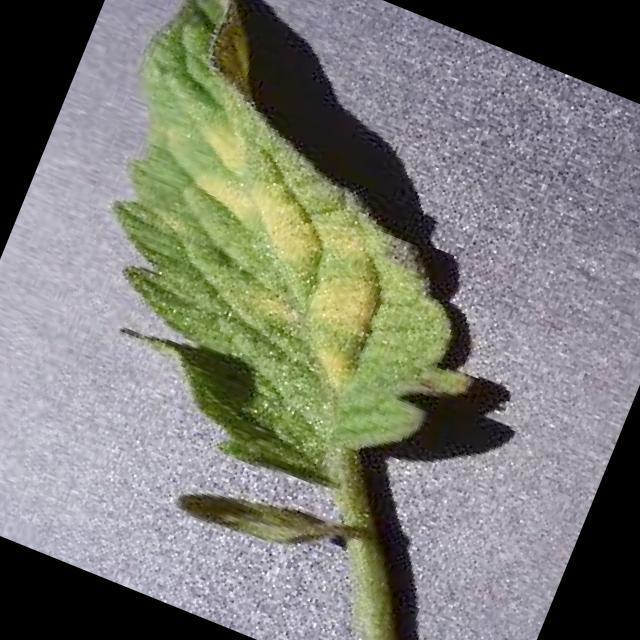Tomato mold leaf: (13, 0, 578, 532)
